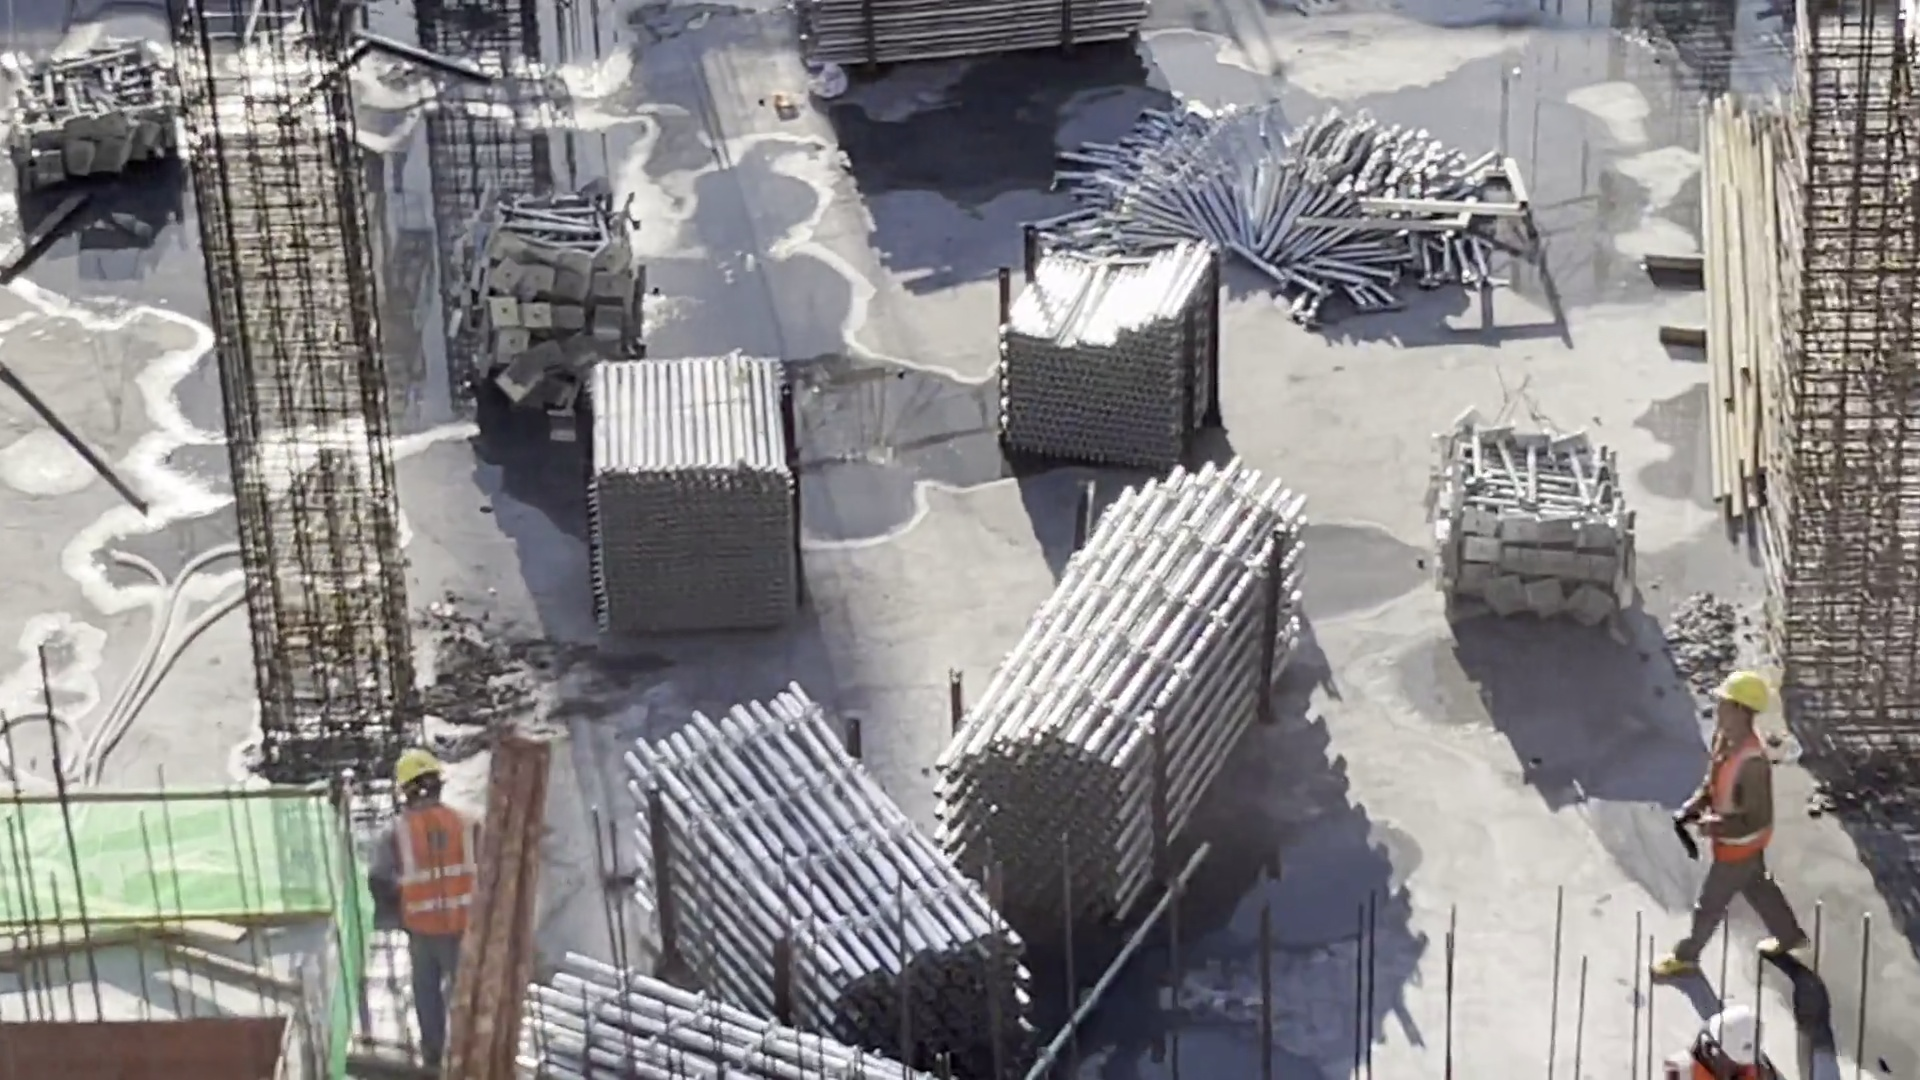helmet: (1716, 673, 1781, 717), (1711, 1008, 1758, 1067), (396, 750, 444, 783)
person: (1649, 674, 1807, 969), (364, 741, 473, 1078), (1660, 993, 1786, 1080)
scaffold: (970, 468, 1300, 951), (640, 708, 1003, 1047), (1068, 138, 1509, 313), (525, 963, 946, 1080), (595, 368, 793, 614), (997, 255, 1209, 460), (795, 1, 1138, 55)
vest: (397, 813, 473, 934), (1705, 748, 1769, 868)
